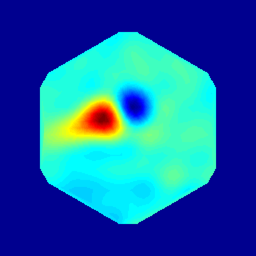ship: (115, 97, 148, 117)
wave: (70, 106, 124, 127)
